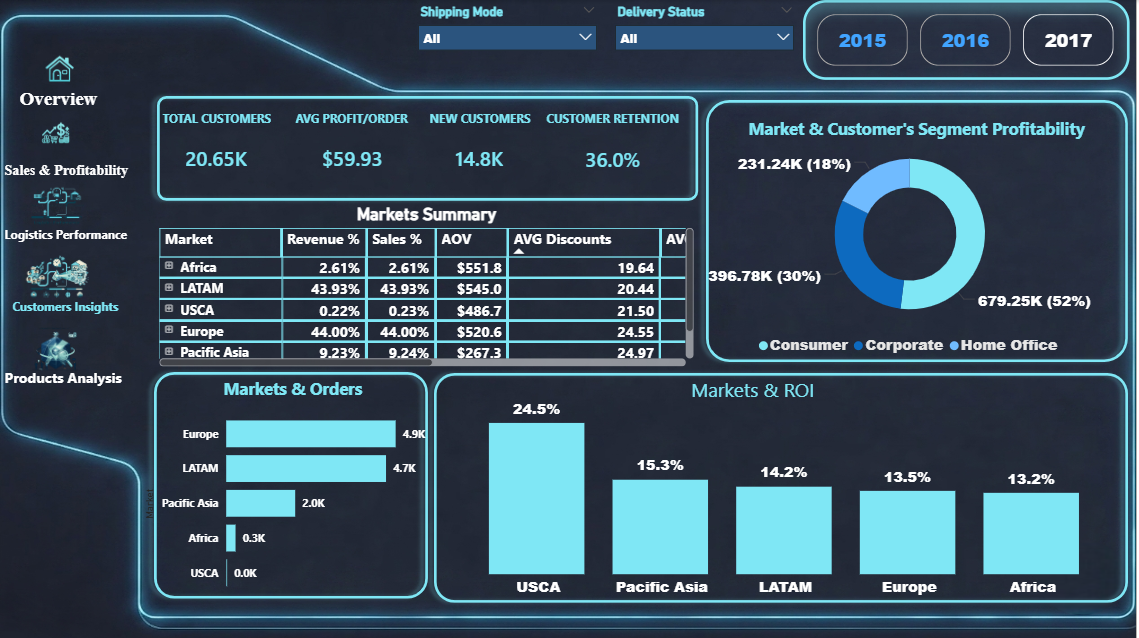

Layout of this report page (visuals, bound fields, positions):
{"tool":"powerbi","page":{"name":"OverView","canvas":[1280,720],"ordinal":0},"visuals":[{"type":"image","box":[0,0,1280,720],"z":0},{"type":"shape","box":[15,15.5,138.9,50],"z":1000},{"type":"textbox","box":[17.2,94.6,112.3,41.5],"z":1000,"group":"g3"},{"type":"shape","box":[442.9,99.4,336.6,320.9],"z":2000},{"type":"textbox","box":[0,178.5,173.3,43.3],"z":2000,"group":"g6"},{"type":"shape","box":[769,221.5,504,195.3],"z":2000,"group":"g4"},{"type":"barChart","fields":{"Y":["NewOrderItem.Profit in all Years"],"Category":["Dim_Shipping.Delivery Status"]},"box":[440.9,121.6,334.1,298.9],"z":3000},{"type":"areaChart","fields":{"Category":["Date Table.Date Hierarchy.Year","Date Table.Date Hierarchy.Quarter","Date Table.Date Hierarchy.Month Name"],"Y":["Count(NewOrderItem.Order Id)"]},"box":[784.4,244.1,475.4,163.9],"z":3000,"group":"g4"},{"type":"textbox","box":[0,250.2,155.6,33.3],"z":3000,"group":"g7"},{"type":"group","id":"g1","title":"Group 2","box":[767.3,102.9,504.7,130.6],"z":4000},{"type":"textbox","box":[866.2,227.3,326.2,56.9],"z":4000,"group":"g4"},{"type":"textbox","box":[9,331.1,144.4,34.4],"z":5000,"group":"g8"},{"type":"textbox","box":[160.8,421.6,279.7,56.8],"z":5000},{"type":"image","box":[20.3,43.8,93.8,66.2],"z":5001,"group":"g3"},{"type":"textbox","box":[442.6,108.8,325,39.7],"z":6000},{"type":"textbox","box":[0,409.2,144.4,32.2],"z":7000,"group":"g9"},{"type":"group","id":"g2","title":"Group 4","box":[442.9,411.6,837.1,275.5],"z":7000},{"type":"advancedSlicerVisual","fields":{"Values":["Date Table.Year"]},"box":[905,0,368.3,90],"z":8000},{"type":"group","id":"g3","title":"Group 1","box":[17.2,43.8,112.3,92.3],"z":8000,"group":"g5"},{"type":"image","box":[14.4,120.7,95.6,64],"z":9000,"group":"g6"},{"type":"cardVisual","fields":{"Data":["NewOrderItem.YOY Growth %"]},"box":[786.5,161.5,130.8,57.5],"z":9000},{"type":"shape","box":[154.6,411.4,300.4,276.5],"z":10000},{"type":"shape","box":[767.3,102.9,504.7,130.6],"z":11000,"group":"g1"},{"type":"cardVisual","fields":{"Data":["NewOrderItem.YOY Growth (Profit%)"]},"box":[885.9,160.7,150,59.3],"z":11000},{"type":"image","box":[16.8,278.9,94.4,64.4],"z":11000,"group":"g8"},{"type":"cardVisual","fields":{"Data":["NewOrderItem.YOY Growth (Orders%)"]},"box":[953.6,155.8,192.5,69.1],"z":12000},{"type":"cardVisual","fields":{"Data":["NewOrderItem.YOY Growth (Avg Profit per Order%)"]},"box":[1115.5,154.4,142,66.5],"z":13000},{"type":"image","box":[14.4,360.3,95.6,65.6],"z":13000,"group":"g9"},{"type":"shape","box":[442.9,411.6,837.1,275.5],"z":13000,"group":"g2"},{"type":"group","id":"g4","title":"Group 9","box":[769,221.5,504,195.3],"z":14000},{"type":"donutChart","fields":{"Category":["NewOrderItem.Type"],"Y":["NewOrderItem.Profit in all Years"]},"box":[160.8,444.6,293.2,244.6],"z":15000},{"type":"image","box":[125.1,74.4,343.7,406.8],"z":16000},{"type":"image","box":[16.7,205.8,94.4,50],"z":16000,"group":"g7"},{"type":"slicer","fields":{"Values":["Dim_Shipping.Delivery Status"]},"box":[682.7,0,222.4,90.5],"z":17000},{"type":"cardVisual","fields":{"Data":["NewOrderItem.Revenues in this year"]},"box":[775.2,130.1,148.7,59.2],"z":17000,"group":"g1"},{"type":"group","id":"g5","title":"Group 8","box":[0,43.8,173.3,397.6],"z":18000},{"type":"cardVisual","fields":{"Data":["NewOrderItem.Profit in this year"]},"box":[863.9,128.9,187,63.1],"z":18000,"group":"g1"},{"type":"pageNavigator","box":[0,76.6,135.2,382],"z":19000},{"type":"cardVisual","fields":{"Data":["NewOrderItem.Total Orders in this year"]},"box":[982.3,132.2,135,55],"z":19000,"group":"g1"},{"type":"slicer","fields":{"Values":["Dim_Shipping.Shipping Mode"]},"box":[461.4,0,221.6,89.8],"z":20000},{"type":"group","id":"g6","title":"Group 3","box":[0,120.7,173.3,101.1],"z":20000,"group":"g5"},{"type":"cardVisual","fields":{"Data":["NewOrderItem.Avg Profit per Order in this year"]},"box":[1101.6,132.7,165.7,54.1],"z":20000,"group":"g1"},{"type":"clusteredColumnChart","fields":{"Category":["Dim_Location.Order Country"],"Y":["NewOrderItem.Revenues in all Years","NewOrderItem.Profit in all Years"]},"box":[454.2,445.3,814.5,237.3],"z":20000,"group":"g2"},{"type":"group","id":"g7","title":"Group 5","box":[0,205.8,155.6,77.8],"z":21000,"group":"g5"},{"type":"textbox","box":[657,419.3,341.3,56.6],"z":21000,"group":"g2"},{"type":"textbox","box":[910.5,122,93,33.6],"z":22000,"group":"g1"},{"type":"group","id":"g8","title":"Group 6","box":[9,278.9,144.4,86.7],"z":22000,"group":"g5"},{"type":"textbox","box":[1003.5,122,131,33.6],"z":23000,"group":"g1"},{"type":"group","id":"g9","title":"Group 7","box":[0,360.3,144.4,81.1],"z":23000,"group":"g5"},{"type":"textbox","box":[1113.8,122.3,151.7,38.4],"z":24000,"group":"g1"},{"type":"textbox","box":[785.7,123.3,138.2,27.6],"z":28000,"group":"g1"}]}

Visuals, with their boxes in screenshot pixels (x1, y1, x2, y2), scaled from the page's 1280x720 canvas onto the 1139x638 screenshot:
image: 0/0/1138/637
shape: 13/14/137/58
textbox: 15/84/115/121
shape: 394/88/694/372
textbox: 0/158/154/197
shape: 684/196/1133/369
barChart - NewOrderItem.Profit in all Years x Dim_Shipping.Delivery Status: 392/108/690/373
areaChart - Date Table.Date Hierarchy.Year x Date Table.Date Hierarchy.Quarter: 698/216/1121/362
textbox: 0/222/138/251
"Group 2" group: 683/91/1132/207
textbox: 771/201/1061/252
textbox: 8/293/137/324
textbox: 143/374/392/424
image: 18/39/102/97
textbox: 394/96/683/132
textbox: 0/363/128/391
"Group 4" group: 394/365/1138/609
advancedSlicerVisual - Date Table.Year: 805/0/1133/80
"Group 1" group: 15/39/115/121
image: 13/107/98/164
cardVisual - NewOrderItem.YOY Growth %: 700/143/816/194
shape: 138/365/405/610
shape: 683/91/1132/207
cardVisual - NewOrderItem.YOY Growth (Profit%): 788/142/922/195
image: 15/247/99/304
cardVisual - NewOrderItem.YOY Growth (Orders%): 849/138/1020/199
cardVisual - NewOrderItem.YOY Growth (Avg Profit per Order%): 993/137/1119/196
image: 13/319/98/377
shape: 394/365/1138/609
"Group 9" group: 684/196/1133/369
donutChart - NewOrderItem.Type x NewOrderItem.Profit in all Years: 143/394/404/611
image: 111/66/417/426
image: 15/182/99/227
slicer - Dim_Shipping.Delivery Status: 607/0/805/80
cardVisual - NewOrderItem.Revenues in this year: 690/115/822/168
"Group 8" group: 0/39/154/391
cardVisual - NewOrderItem.Profit in this year: 769/114/935/170
pageNavigator: 0/68/120/406
cardVisual - NewOrderItem.Total Orders in this year: 874/117/994/166
slicer - Dim_Shipping.Shipping Mode: 411/0/608/80
"Group 3" group: 0/107/154/197
cardVisual - NewOrderItem.Avg Profit per Order in this year: 980/118/1128/166
clusteredColumnChart - Dim_Location.Order Country x NewOrderItem.Revenues in all Years: 404/395/1129/605
"Group 5" group: 0/182/138/251
textbox: 585/372/888/422
textbox: 810/108/893/138
"Group 6" group: 8/247/137/324
textbox: 893/108/1010/138
"Group 7" group: 0/319/128/391
textbox: 991/108/1126/142
textbox: 699/109/822/134
